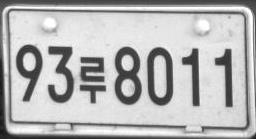0: (146, 46, 173, 106)
1: (180, 47, 208, 107), (213, 47, 240, 108)
3: (47, 45, 74, 104)
8: (113, 45, 142, 105)
9: (15, 43, 43, 102)
루: (79, 55, 106, 104)
